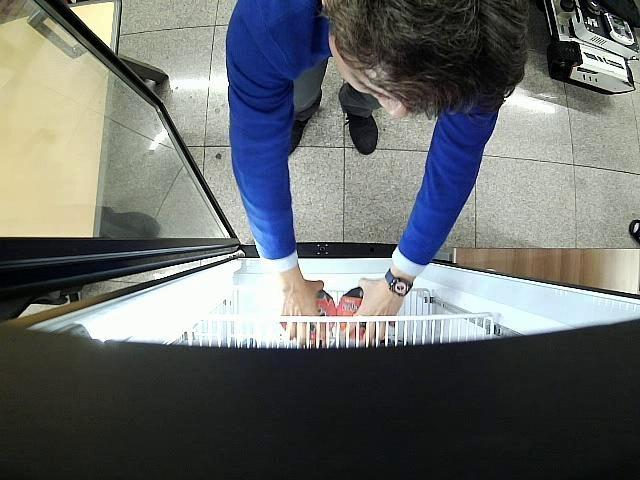01_ShinRamen_L: (282, 288, 335, 342), (338, 287, 384, 342)
